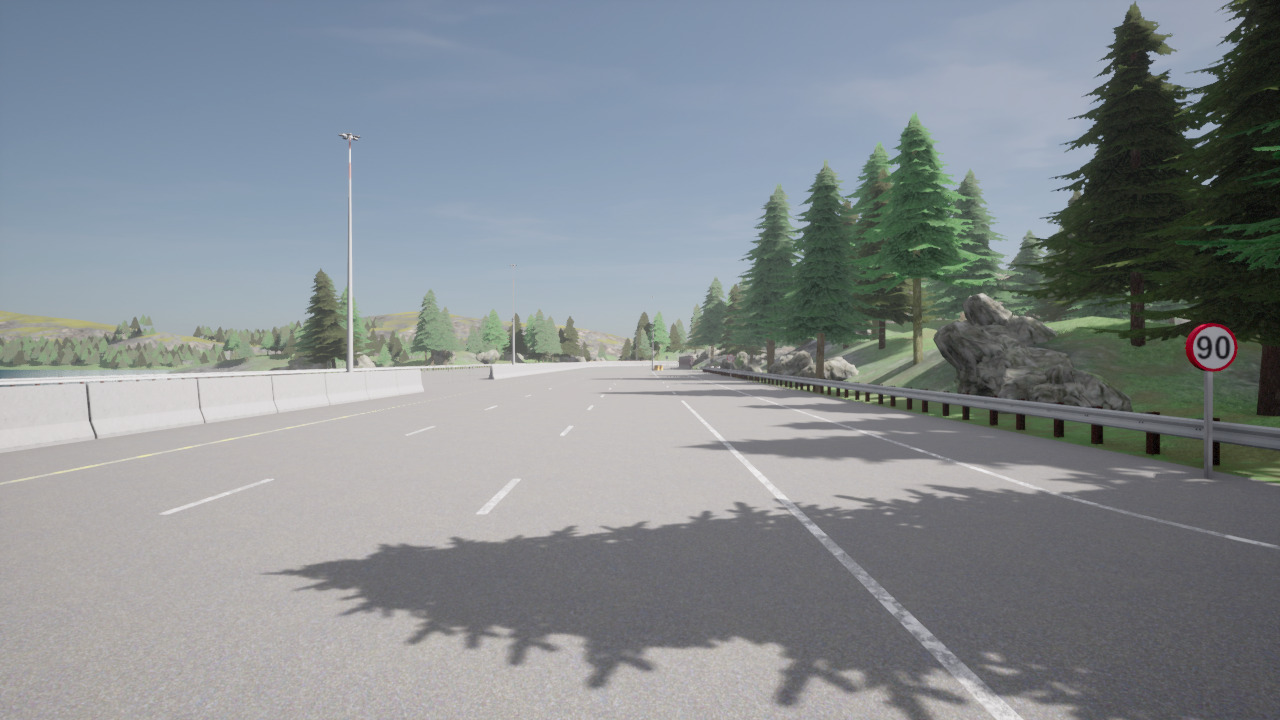sl90: (1184, 321, 1240, 373)
